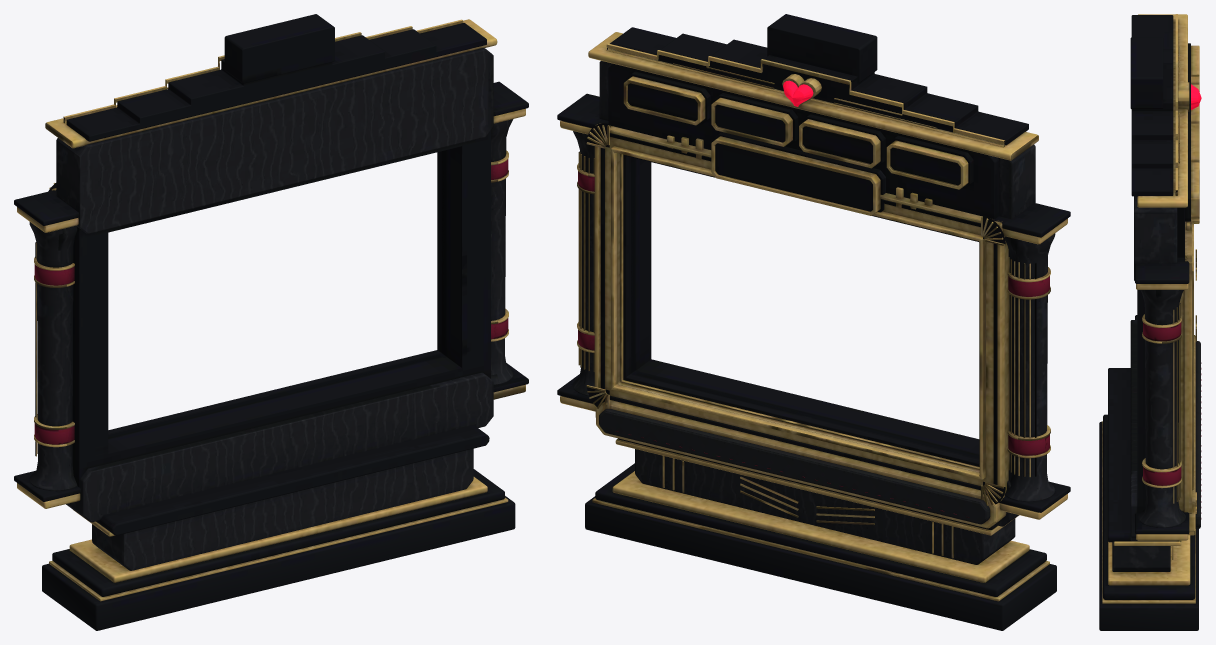
3 views of the same model, side by side, from view 1: azimuth 30°, elevation 25°; view 2: azimuth 150°, elevation 25°; view 3: azimuth 270°, elevation 25° (orthographic). The views are drawn at different scales.
Parts seen in each view (by area): view 1: Quiet_black_marble, Black_lacquer, Champagne_gold, Oxblood_velvet; view 2: Black_lacquer, Champagne_gold, Quiet_black_marble, Black_leather, Oxblood_velvet; view 3: Black_lacquer, Champagne_gold, Quiet_black_marble, Oxblood_velvet, Black_leather, Ruby_heart_glow.
Boxes of the visible parts, x1=… form: Quiet_black_marble: x1=29, y1=48, x2=513, y2=570; Black_lacquer: x1=14, y1=14, x2=528, y2=630; Champagne_gold: x1=17, y1=19, x2=525, y2=601; Oxblood_velvet: x1=34, y1=159, x2=508, y2=444; Black_lacquer: x1=557, y1=14, x2=1070, y2=630; Champagne_gold: x1=560, y1=32, x2=1067, y2=601; Quiet_black_marble: x1=572, y1=61, x2=1055, y2=564; Black_leather: x1=599, y1=408, x2=990, y2=524; Oxblood_velvet: x1=578, y1=171, x2=1049, y2=517; Black_lacquer: x1=1099, y1=15, x2=1198, y2=630; Champagne_gold: x1=1102, y1=14, x2=1199, y2=603; Quiet_black_marble: x1=1112, y1=196, x2=1185, y2=571; Oxblood_velvet: x1=1143, y1=322, x2=1201, y2=519; Black_leather: x1=1195, y1=341, x2=1200, y2=528; Ruby_heart_glow: x1=1191, y1=84, x2=1201, y2=109.
Bounding box in the file's own units: 9.4 × 9.8 × 1.89.
6 materials, 5 textured.
